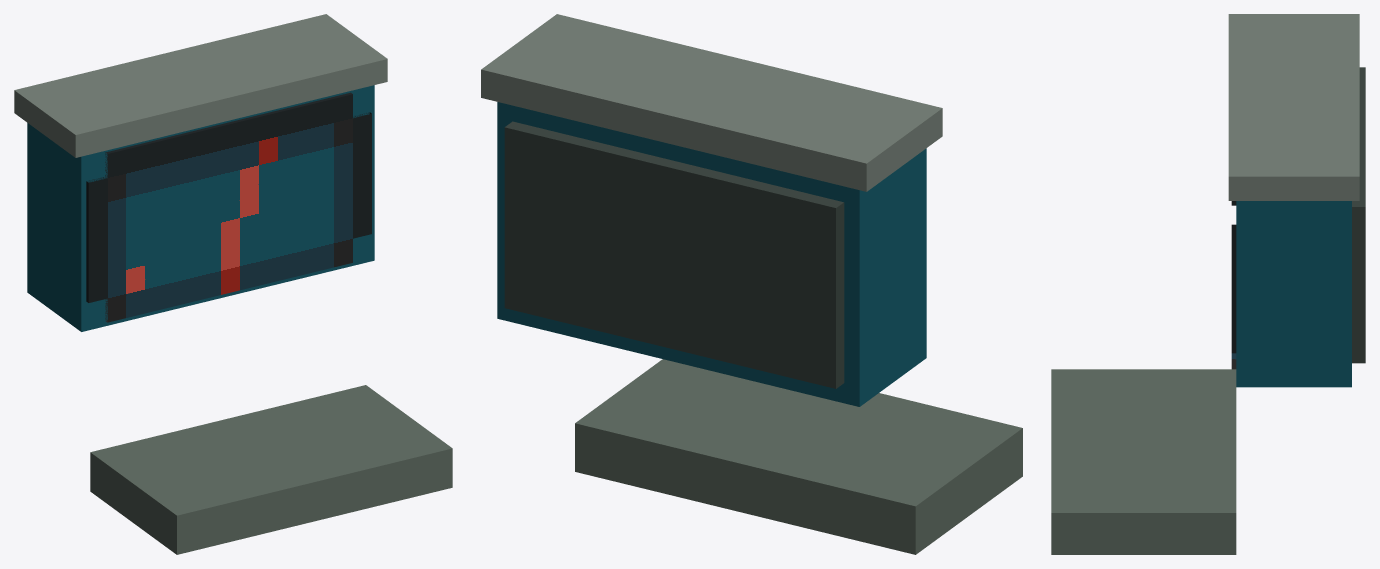
Rendered from CMU3DInteriorRMCOverwatchConsoleGovforTOCMapRotating.glb.
3 renders of one model, left to right at view 1: azimuth 30°, elevation 25°; view 2: azimuth 150°, elevation 25°; view 3: azimuth 270°, elevation 25°, orthographic. The views are drawn at different scales.
Visible parts, largest first — view 1: source equipment controls, operator keyboard tray, reinforced top, closed equipment casing; view 2: rear service plate, operator keyboard tray, reinforced top, closed equipment casing; view 3: operator keyboard tray, reinforced top, closed equipment casing, rear service plate, source equipment controls.
Boxes of the visible parts, x1,y1,x2,y2 form: source equipment controls: (86,92,371,322); operator keyboard tray: (90,385,452,554); reinforced top: (14,14,387,157); closed equipment casing: (27,85,374,331); rear service plate: (504,121,844,388); operator keyboard tray: (575,359,1022,554); reinforced top: (481,14,942,191); closed equipment casing: (497,102,926,406); operator keyboard tray: (1051,369,1236,554); reinforced top: (1228,14,1359,200); closed equipment casing: (1236,201,1351,387); rear service plate: (1352,67,1365,363); source equipment controls: (1231,201,1236,369).
Size of the model in its own units: 0.4988 by 0.555 by 0.408.
5 materials, 1 textured.
